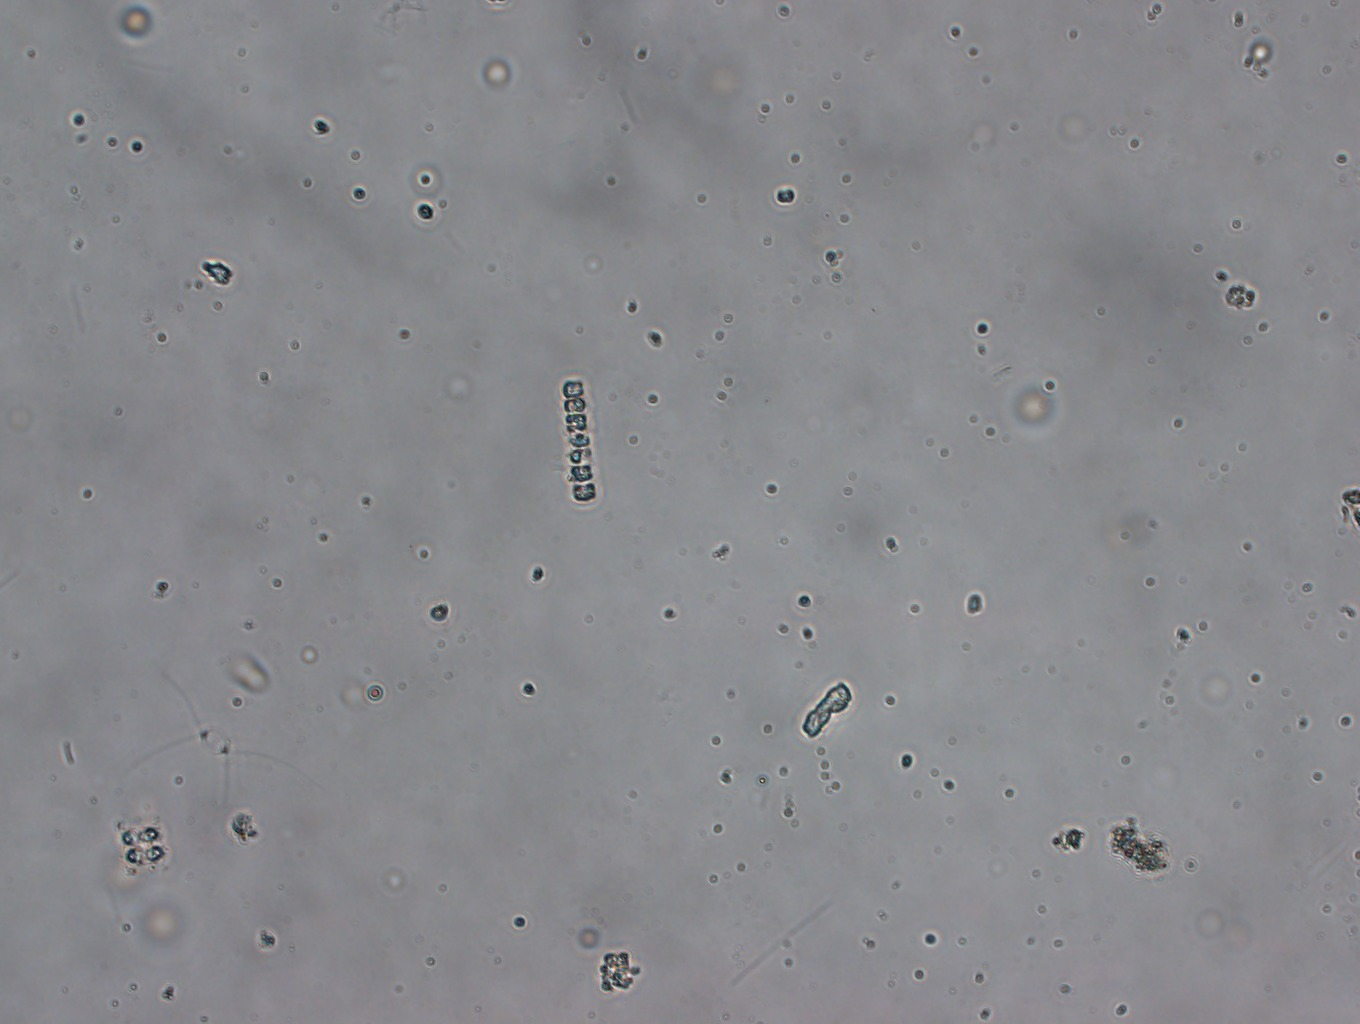skeletonema: (557, 376, 599, 507)
